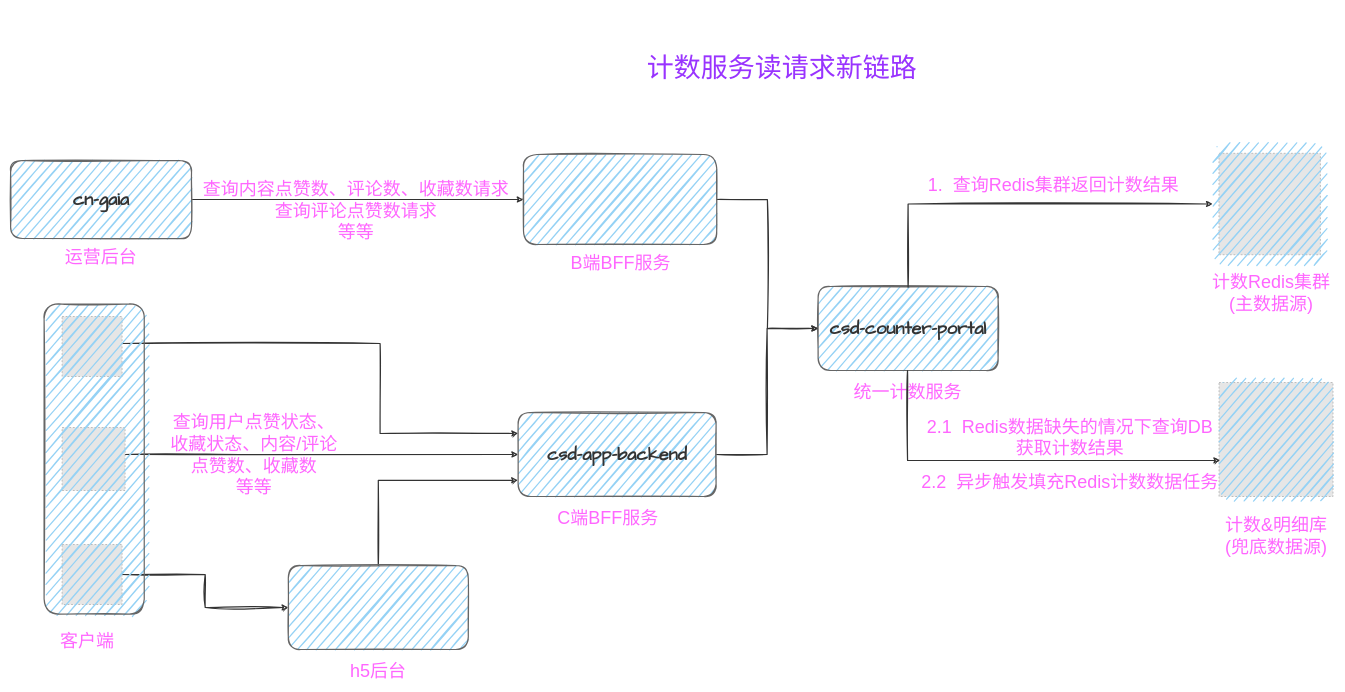
Some shapes in this 1345 by 692 pixel diagram are drawn without their labels. Grey dashed boxes stand in for pictures. Each missing label, with the centre of its shape:
csd-admin-backend: the point at 620,199
h5-gateway: the point at 378,607
